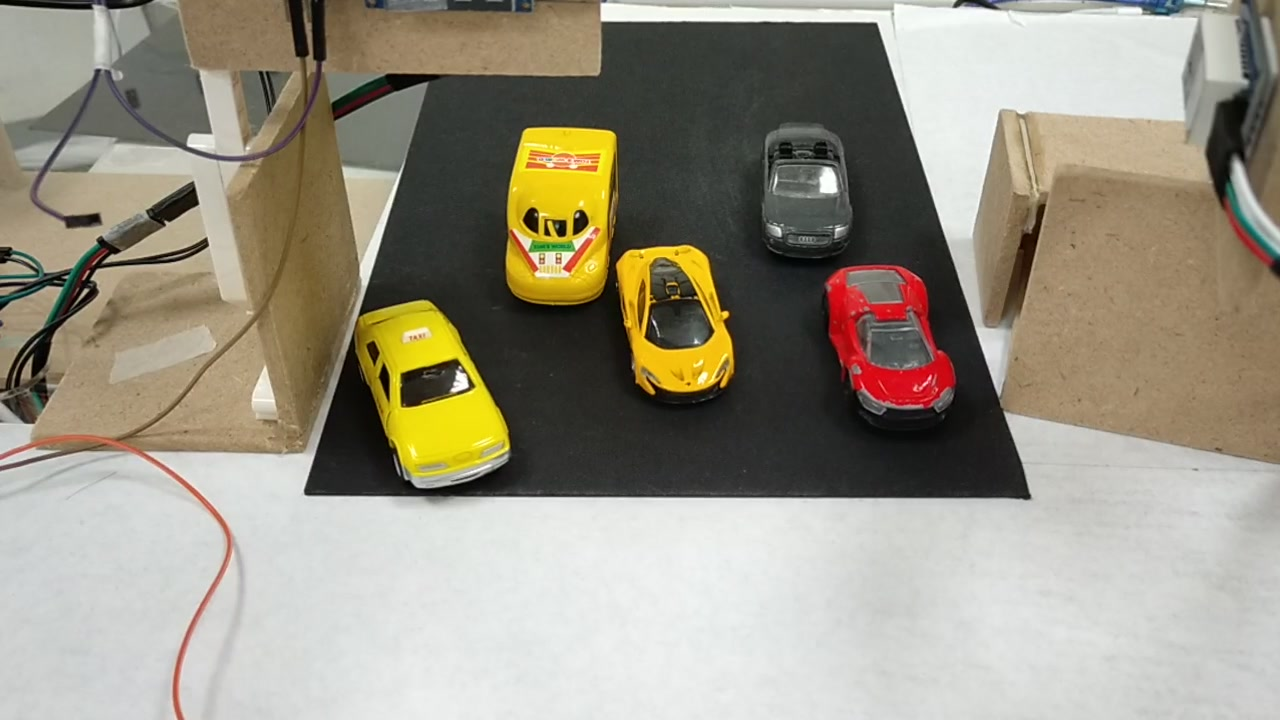car: (348, 306, 512, 489), (821, 264, 962, 429), (607, 247, 732, 395), (758, 124, 855, 259)
